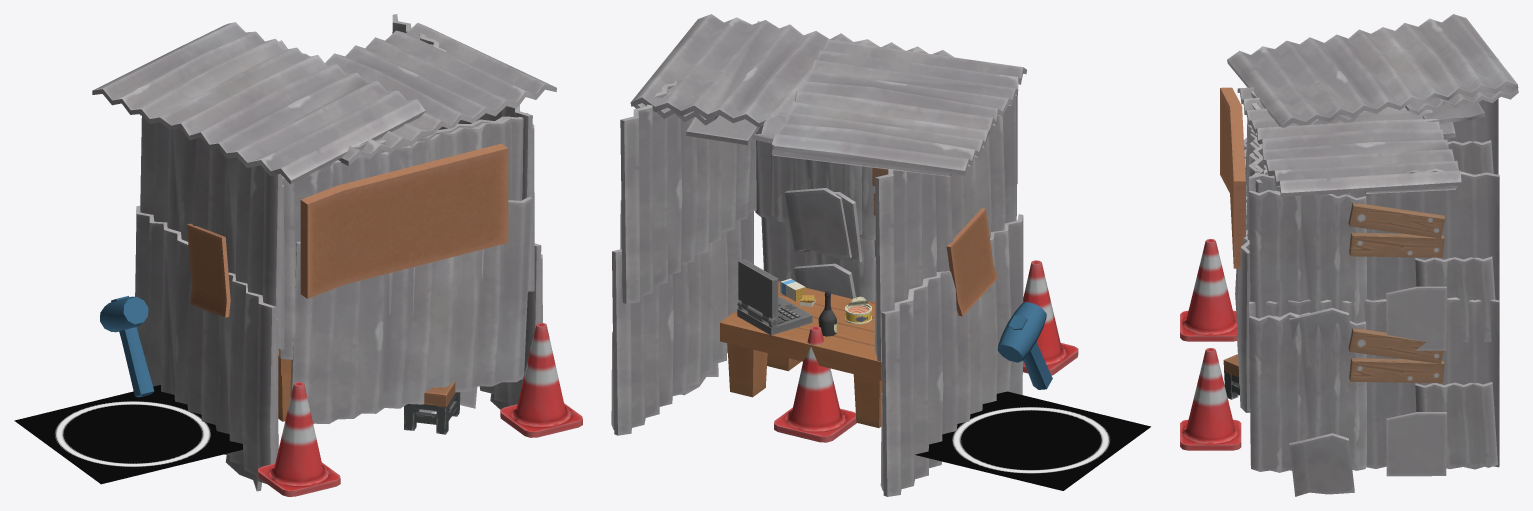
File: FoodTable.fbx
3 views of the same model, side by side, from view 1: azimuth 30°, elevation 25°; view 2: azimuth 150°, elevation 25°; view 3: azimuth 270°, elevation 25° (orthographic). The views are drawn at different scales.
Visible parts, largest first — view 1: Mat_MetalBoard_01_1, Mat_PaperBox_02, BuildingInteractRing, Mat_Roadblocks01, EdgeLight_build, Mat_Indoors_Table_02, Mat_MetalBoard_01_3, Mat_Indoors_Study_01_1; view 2: Mat_MetalBoard_01_1, BuildingInteractRing, Mat_MetalBoard_01_3, Mat_Indoors_Study_01_1, Mat_Roadblocks01, Mat_PaperBox_02, Mat_Computer_01_01, EdgeLight_build, ColorA, Mat_MetalBoard_01_4; view 3: Mat_MetalBoard_01_1, Mat_MetalBoard_01_3, Mat_MetalBoard_01_4, Mat_WoodBoards_01_2, Mat_Roadblocks01, Mat_PaperBox_02, Mat_Indoors_Table_02.
Part boxes in pixels (x1,y1,x2,y2): Mat_MetalBoard_01_1: (92,14,556,491); Mat_PaperBox_02: (187,143,508,317); BuildingInteractRing: (14,385,242,484); Mat_Roadblocks01: (258,323,582,496); EdgeLight_build: (100,296,154,397); Mat_Indoors_Table_02: (404,381,460,434); Mat_MetalBoard_01_3: (139,114,542,462); Mat_Indoors_Study_01_1: (278,350,291,421); Mat_MetalBoard_01_1: (612,14,1026,496); BuildingInteractRing: (915,391,1150,490); Mat_MetalBoard_01_3: (755,126,951,301); Mat_Indoors_Study_01_1: (720,281,882,427); Mat_Roadblocks01: (774,260,1078,442); Mat_PaperBox_02: (946,95,1017,316); Mat_Computer_01_01: (737,259,812,335); EdgeLight_build: (997,301,1052,389); ColorA: (780,278,871,336); Mat_MetalBoard_01_4: (611,103,883,491); Mat_MetalBoard_01_1: (1227,14,1518,496); Mat_MetalBoard_01_3: (1249,85,1518,472); Mat_MetalBoard_01_4: (1288,114,1497,468); Mat_WoodBoards_01_2: (1348,202,1444,383); Mat_Roadblocks01: (1180,239,1241,450); Mat_PaperBox_02: (1220,87,1245,268); Mat_Indoors_Table_02: (1223,354,1239,399).
Bounding box in the file's own units: 4.32 × 3.34 × 3.04.
Materials: 12 (12 with a texture image).
